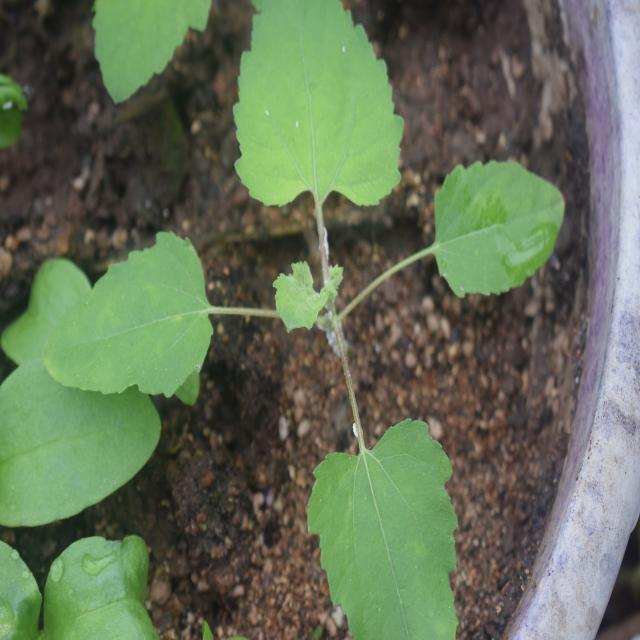cocklebur: (72, 1, 545, 574)
